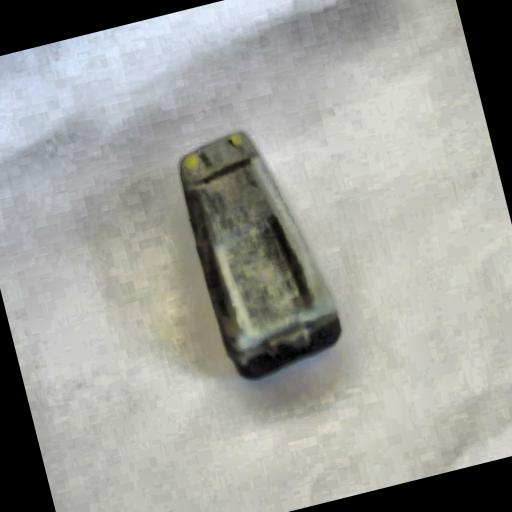normal_car: (168, 116, 354, 389)
